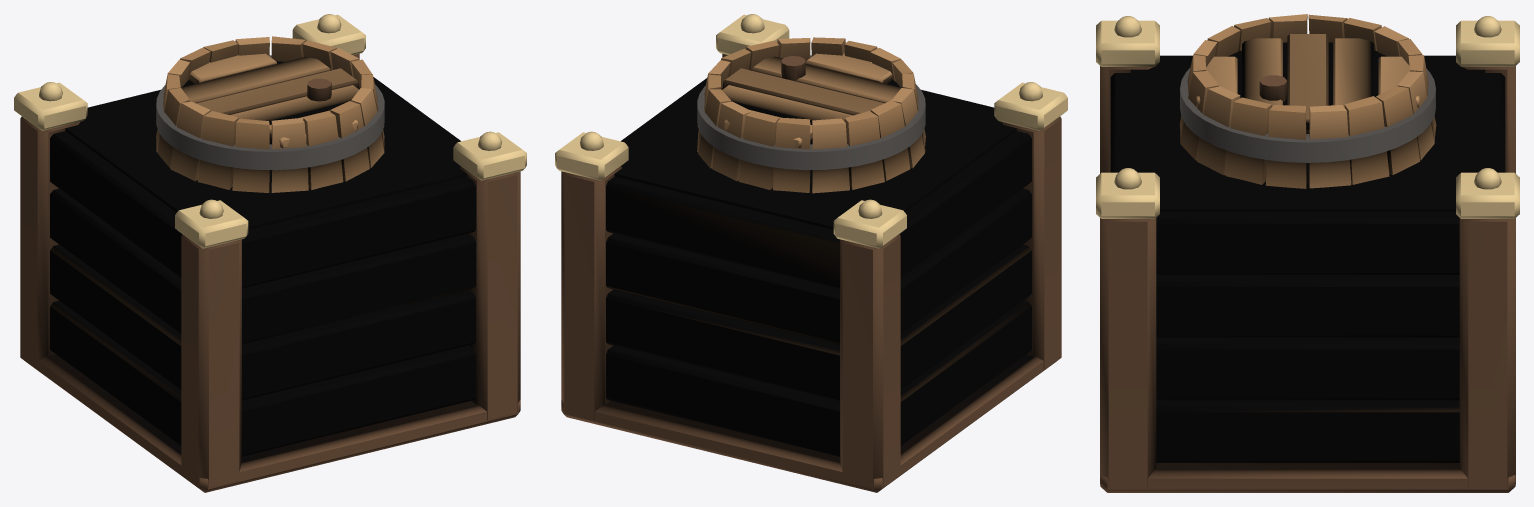
The model's file is decor.glb.
3 views of the same model, side by side, from view 1: azimuth 30°, elevation 25°; view 2: azimuth 150°, elevation 25°; view 3: azimuth 270°, elevation 25° (orthographic). The views are drawn at different scales.
Visible parts, largest first — view 1: PlanterMesh, BarrelMesh; view 2: PlanterMesh, BarrelMesh; view 3: PlanterMesh, BarrelMesh.
Part boxes in pixels (x1,y1,x2,y2): PlanterMesh: (14, 14, 526, 492); BarrelMesh: (156, 36, 384, 192); PlanterMesh: (555, 14, 1067, 492); BarrelMesh: (697, 37, 925, 193); PlanterMesh: (1096, 16, 1519, 492); BarrelMesh: (1179, 14, 1436, 188).
Size of the model in its own units: 49 by 44.24 by 49.
